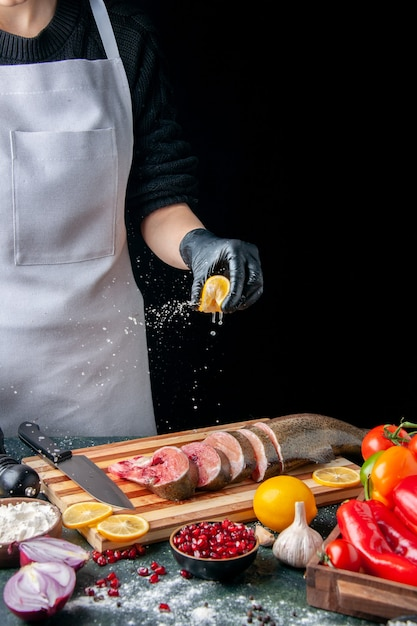knife: (15, 418, 135, 510)
